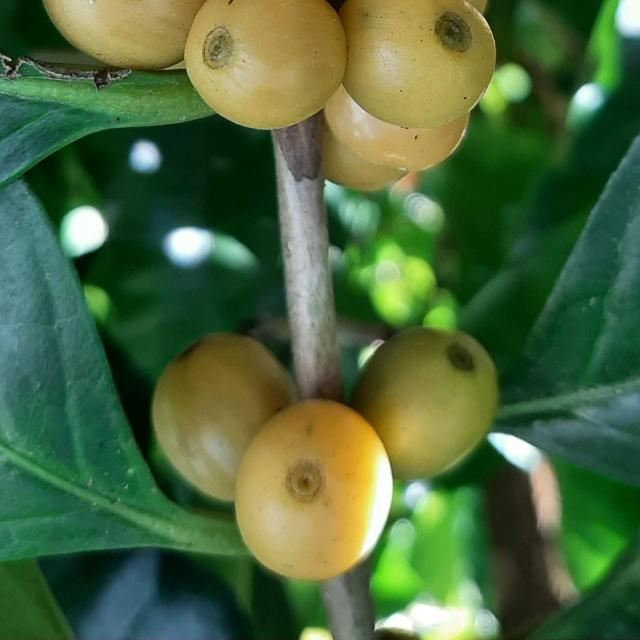green: (151, 333, 297, 502), (352, 327, 500, 480)
red: (235, 399, 393, 581), (184, 0, 347, 129), (339, 0, 497, 127), (324, 84, 470, 170), (42, 0, 205, 69), (323, 121, 407, 190)
